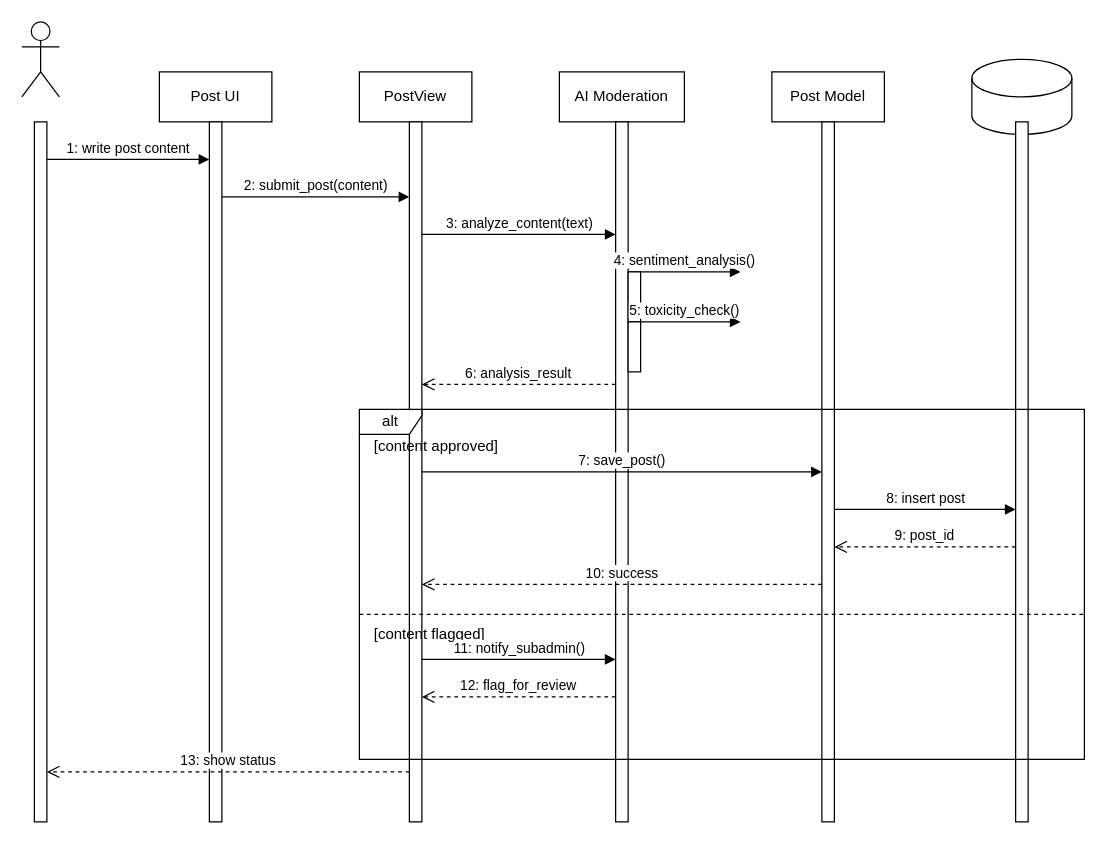
Image size: 1106x844. Some labels were removed from this diagram. The shapes that lost their labels are listed below. From the top down, each one's centre as x and y in pixels, then its label:
At (x=40, y=59): "User".
At (x=1021, y=96): "Database".
